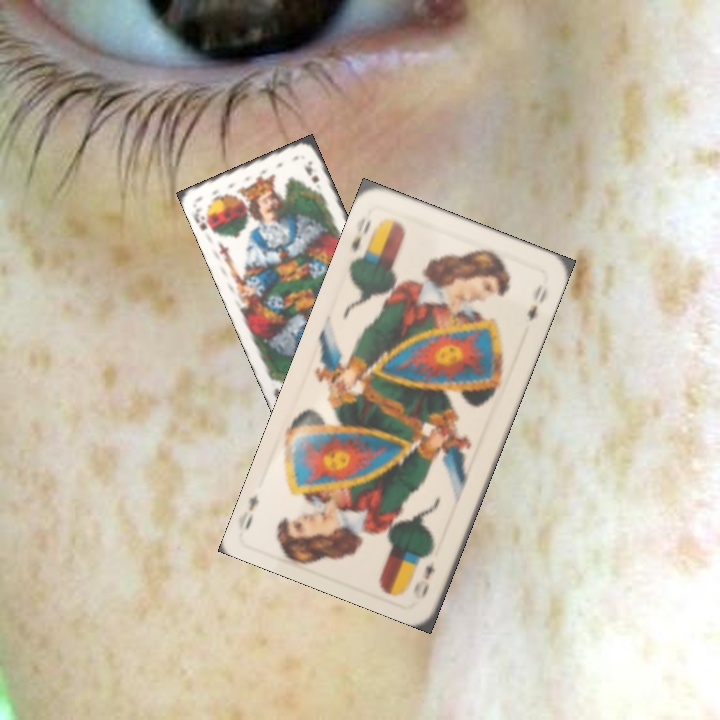EO: (347, 215, 383, 265), (409, 557, 438, 602)
SK: (189, 203, 218, 236)
